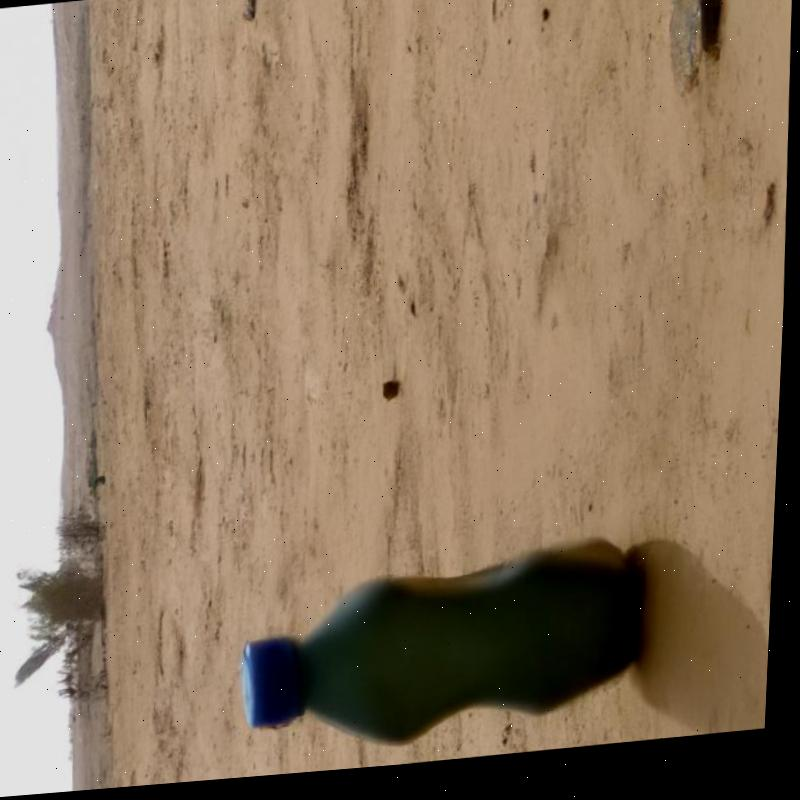botella: (244, 540, 654, 767)
